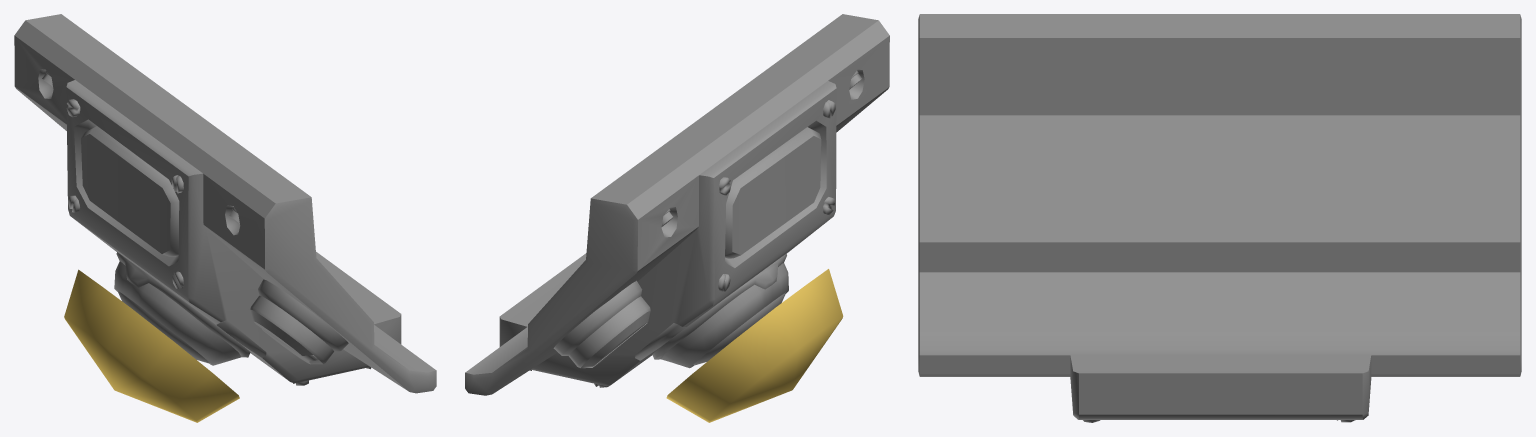
File: Lamp_Door_800x500_A.fbx
The picture shows the model from 3 angles, left to right: view 1: azimuth 30°, elevation 25°; view 2: azimuth 150°, elevation 25°; view 3: azimuth 270°, elevation 25°; orthographic projection. The views are drawn at different scales.
Parts seen in each view (by area): view 1: Geom_Lamp_Door_800x500_A_LOD00, Geom_Lamp_Door_800x500_A_Emissive_GI; view 2: Geom_Lamp_Door_800x500_A_LOD00, Geom_Lamp_Door_800x500_A_Emissive_GI; view 3: Geom_Lamp_Door_800x500_A_LOD00.
Part boxes in pixels (<box>): Geom_Lamp_Door_800x500_A_LOD00: <box>14,14,436,393</box>; Geom_Lamp_Door_800x500_A_Emissive_GI: <box>64,269,239,422</box>; Geom_Lamp_Door_800x500_A_LOD00: <box>465,14,889,395</box>; Geom_Lamp_Door_800x500_A_Emissive_GI: <box>666,269,843,422</box>; Geom_Lamp_Door_800x500_A_LOD00: <box>918,14,1521,422</box>.
Size of what is drawn, in the model's own units: 106 by 177 by 117.
